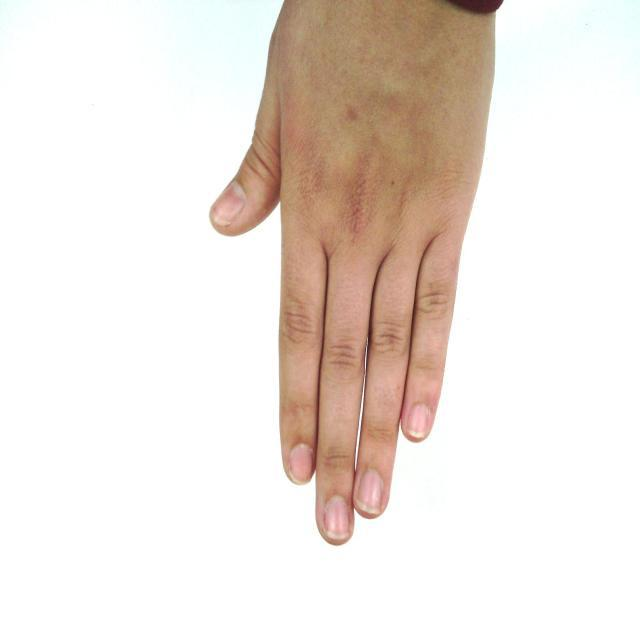Fingernail: (212, 184, 245, 223), (324, 497, 350, 539), (357, 469, 382, 512), (405, 404, 431, 439), (290, 445, 312, 484)
